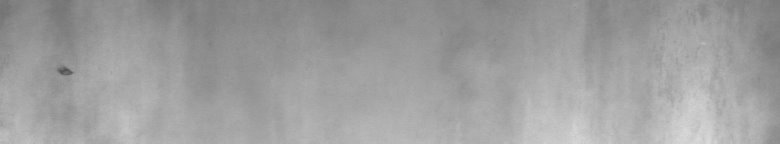fi: (57, 60, 74, 80)
